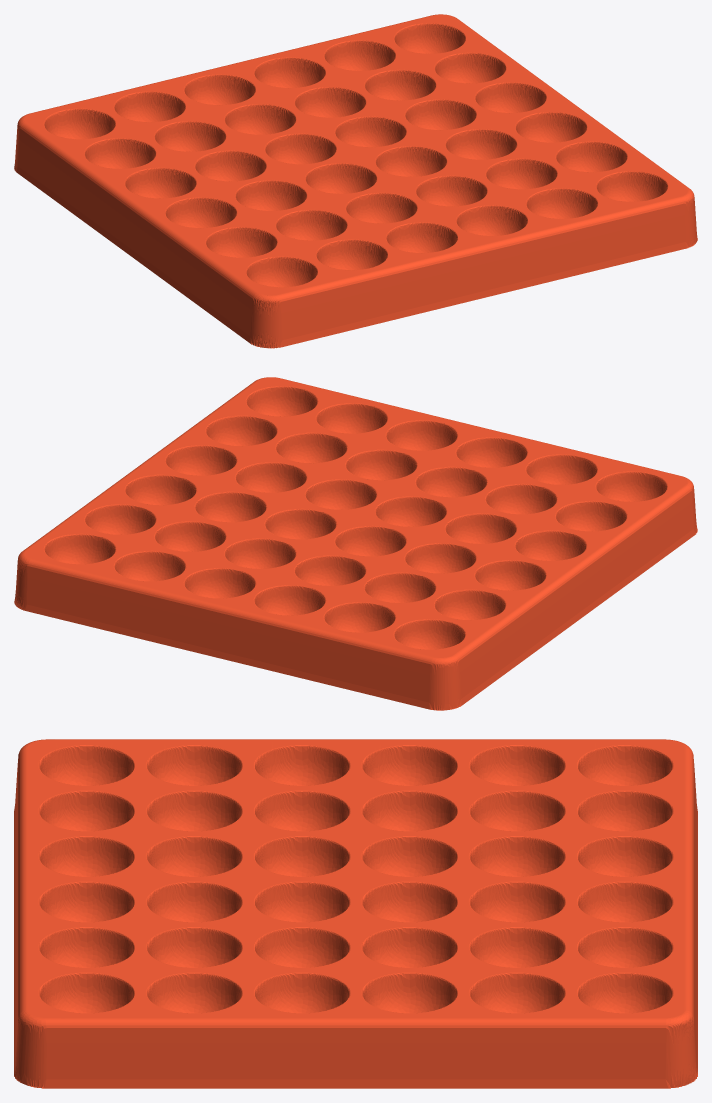
The model's file is mold.glb.
3 renders of one model, top to bottom at view 1: azimuth 30°, elevation 25°; view 2: azimuth 150°, elevation 25°; view 3: azimuth 270°, elevation 25°, orthographic. The views are drawn at different scales.
Visible parts, largest first — view 1: geometry_0; view 2: geometry_0; view 3: geometry_0.
Part boxes in pixels (left/top/right/bottom): geometry_0: left=14, top=14, right=697, bottom=348; geometry_0: left=14, top=377, right=697, bottom=710; geometry_0: left=14, top=739, right=697, bottom=1088.
Size of the model in its own units: 0.1877 by 0.0196 by 0.1877.
